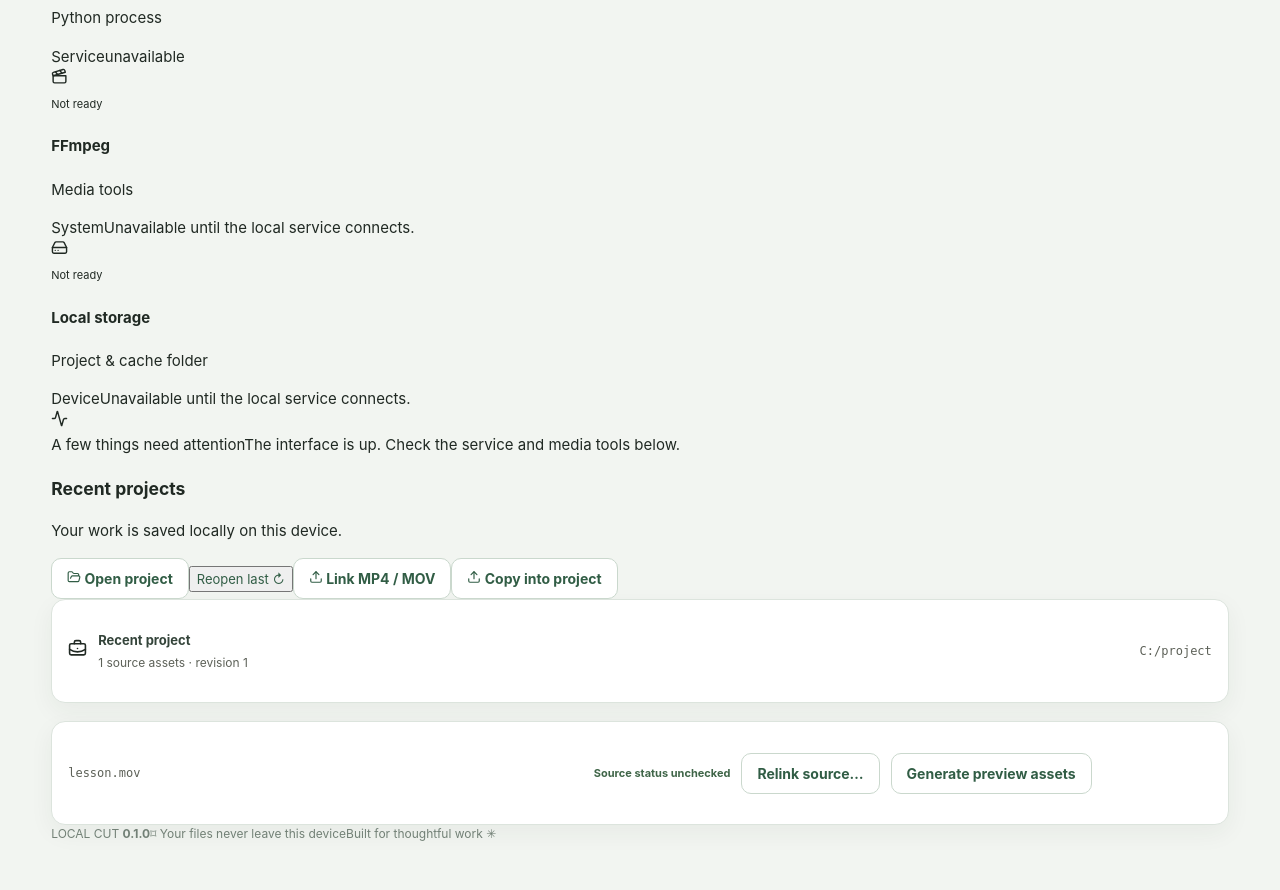
Test: desktop startup UI › queues preview generation for the selected imported asset
(page scrolled)
Click the button "Generate preview assets": click(991, 773) [891,753,1092,794]
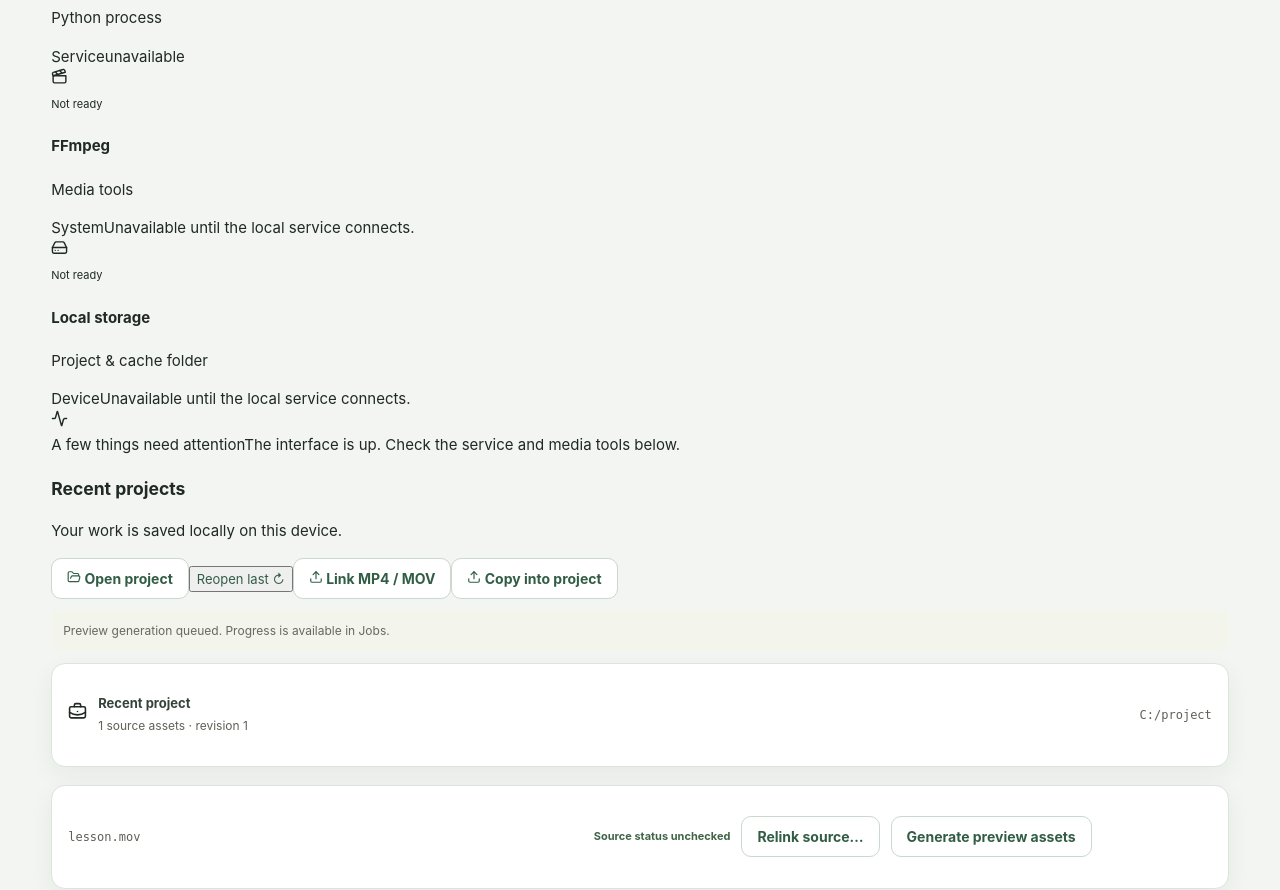
Now the text "Preview generation queued. Progress is available in Jobs." is shown, box [51,611,1229,651]
